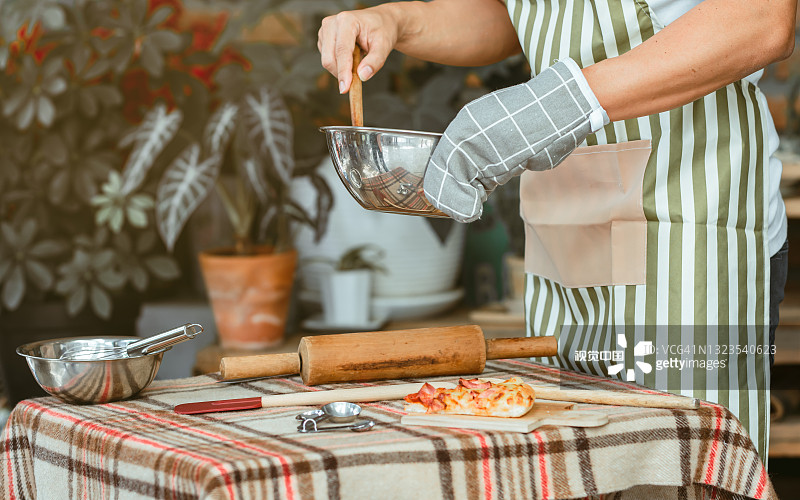no-phone: (304, 2, 404, 100)
